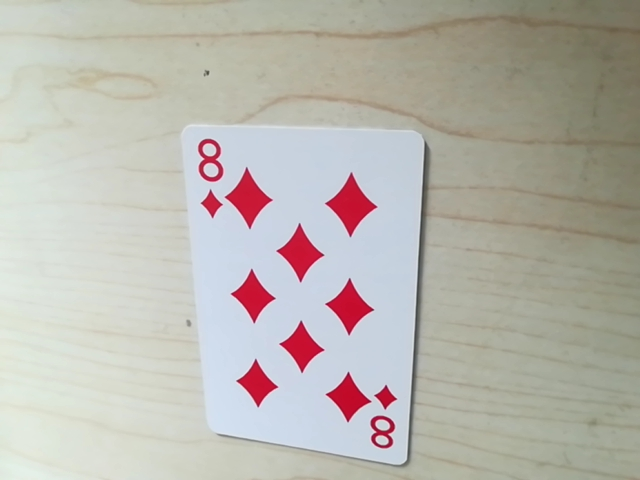fk 8: (188, 132, 233, 191), (363, 395, 404, 458)
